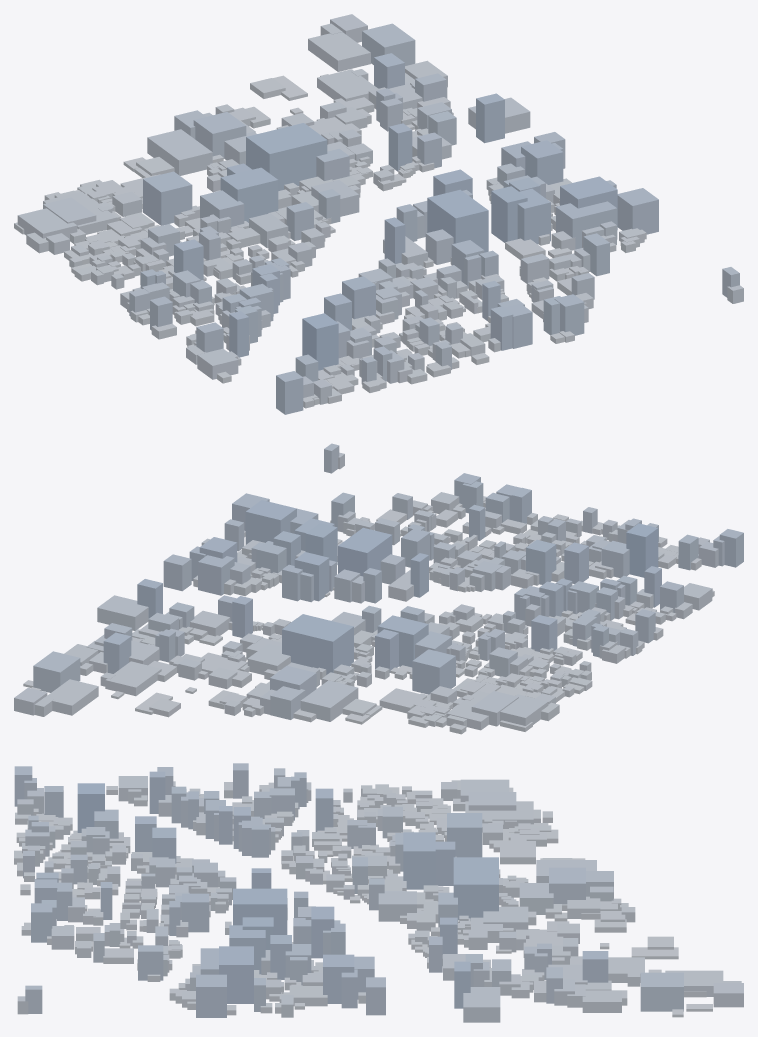
The picture shows the model from 3 angles, top to bottom: view 1: azimuth 30°, elevation 25°; view 2: azimuth 150°, elevation 25°; view 3: azimuth 270°, elevation 25°; orthographic projection. The views are drawn at different scales.
Size of the model in its own units: 618 by 55.11 by 817.
